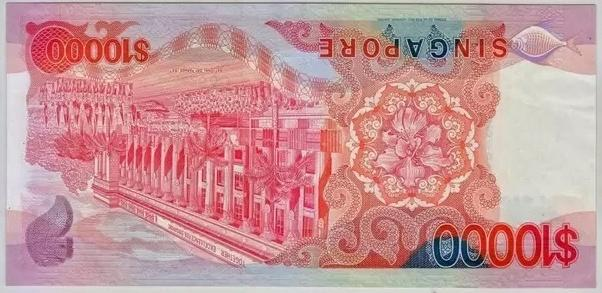10000SingaporeDollar: (6, 4, 598, 286)
